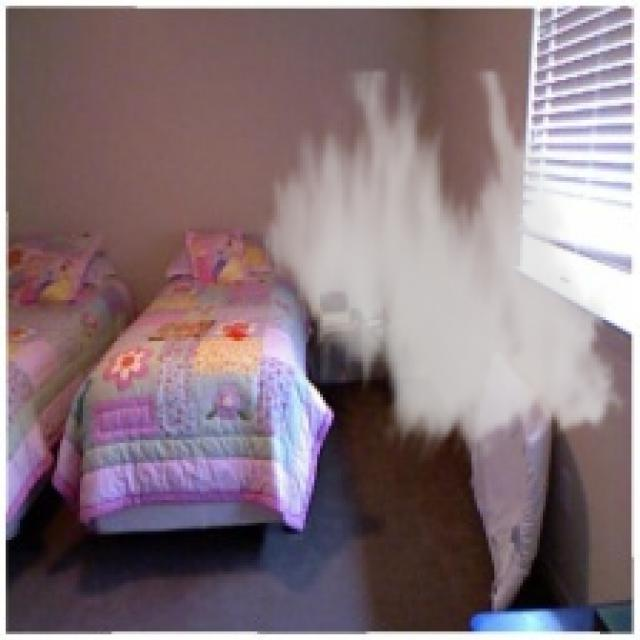smoke: (252, 68, 634, 463)
